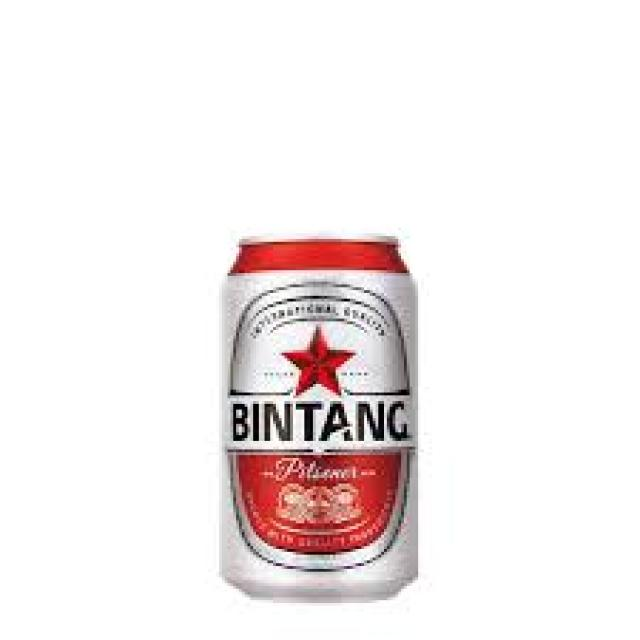metal: (221, 235, 419, 600)
